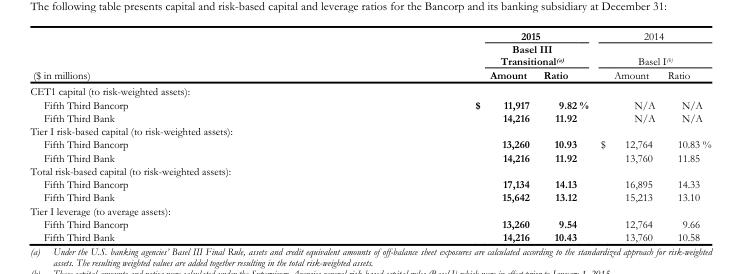table: (29, 29, 710, 242)
table column: (29, 29, 301, 242), (301, 29, 535, 242), (593, 29, 660, 242), (535, 29, 593, 242), (660, 29, 710, 242)
table column header: (29, 29, 710, 82)
table projected row header: (29, 82, 710, 97), (29, 163, 710, 177), (29, 124, 710, 137), (29, 203, 710, 216)
table row: (29, 29, 710, 67), (29, 67, 710, 82), (29, 82, 710, 97), (29, 110, 710, 124), (29, 163, 710, 177), (29, 216, 710, 230), (29, 97, 710, 110), (29, 124, 710, 137), (29, 137, 710, 150), (29, 150, 710, 163), (29, 177, 710, 190), (29, 190, 710, 203), (29, 203, 710, 216), (29, 230, 710, 242)
table spanning cell: (29, 29, 301, 82), (301, 29, 593, 67), (593, 29, 710, 67)
